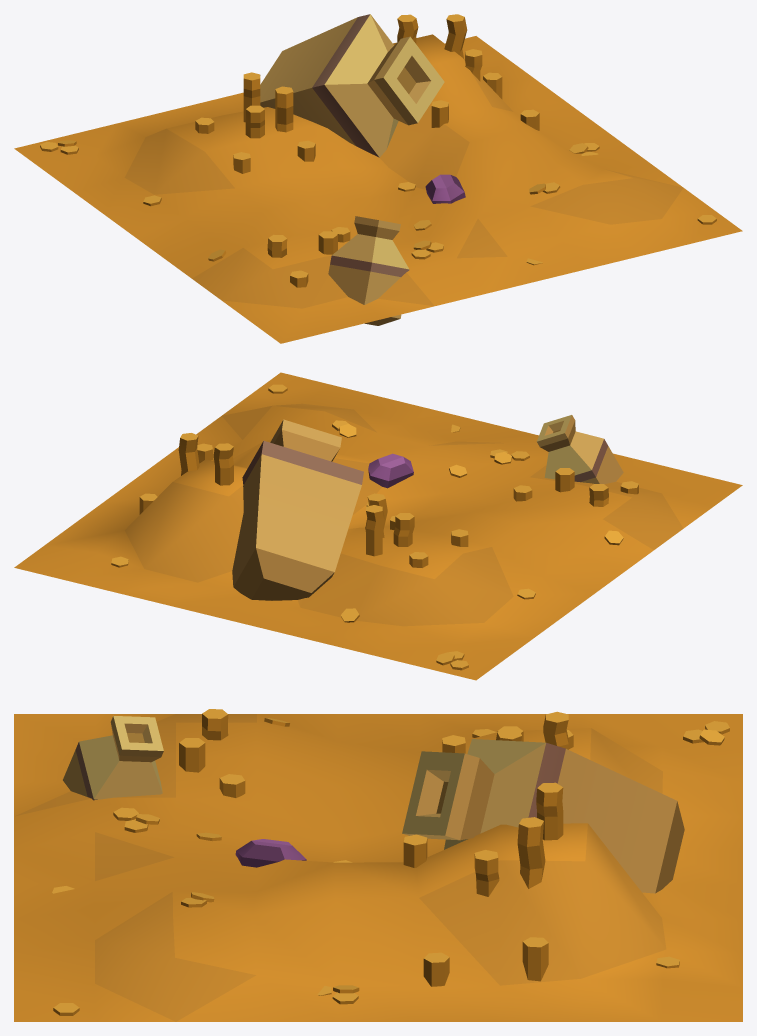
The model's file is ST_Env_Gold_Flat_02.fbx.
The picture shows the model from 3 angles, top to bottom: view 1: azimuth 30°, elevation 25°; view 2: azimuth 150°, elevation 25°; view 3: azimuth 270°, elevation 25°; orthographic projection. The views are drawn at different scales.
Visible parts, largest first — view 1: ST_Env_Gold_Flat_02; view 2: ST_Env_Gold_Flat_02; view 3: ST_Env_Gold_Flat_02.
Boxes of the visible parts, x1,y1,x2,y2 form: ST_Env_Gold_Flat_02: (14,14,742,343); ST_Env_Gold_Flat_02: (14,372,742,680); ST_Env_Gold_Flat_02: (14,709,742,1021).
Bounding box in the file's own units: 5 × 1.59 × 5.
